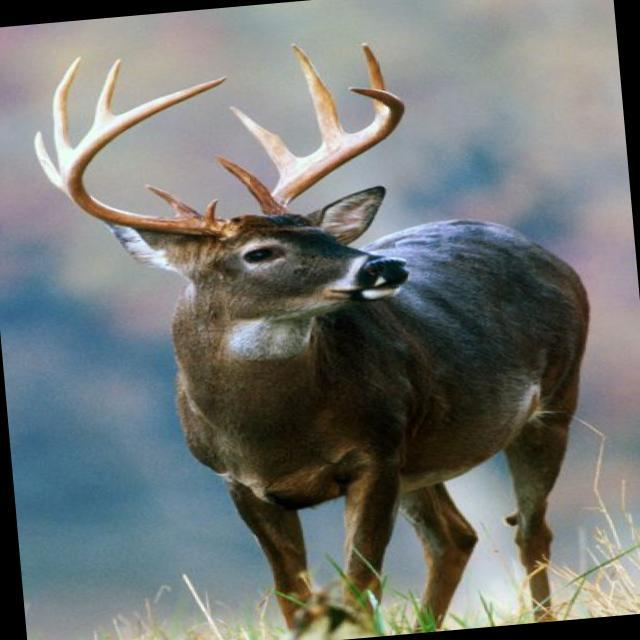E1: (204, 197, 220, 221)
L-F: (260, 86, 406, 216)
L-G1: (215, 153, 273, 206)
L-G2: (228, 105, 300, 174)
L-G3: (290, 44, 347, 142)
R-F: (64, 76, 243, 240)
R-G1: (144, 183, 203, 219)
R-G3: (52, 56, 82, 153)
R-G4: (94, 58, 123, 123)
